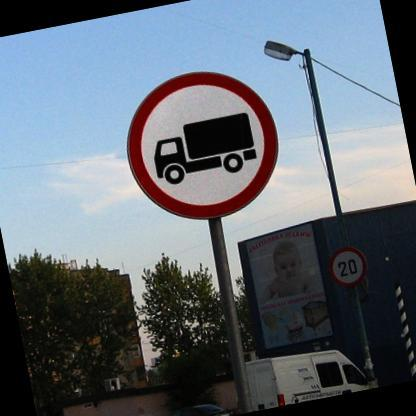road_sign: (127, 72, 277, 216), (329, 247, 366, 286)
